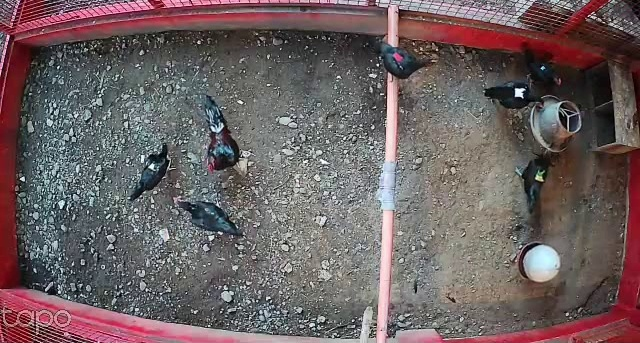Chicken: (120, 137, 179, 204), (511, 147, 556, 221), (373, 36, 438, 82), (173, 197, 244, 238), (480, 79, 548, 115), (517, 46, 565, 93)
Drinker: (516, 240, 562, 283)
Feeder: (530, 92, 584, 154)
Rooster: (201, 92, 254, 178)
Saddle_Color_Blue: (541, 65, 545, 70)
Saddle_Color_Red: (391, 52, 403, 62)
Saddle_Color_White: (513, 86, 525, 99)
Saddle_Color_YellowGreen: (534, 168, 546, 182)
